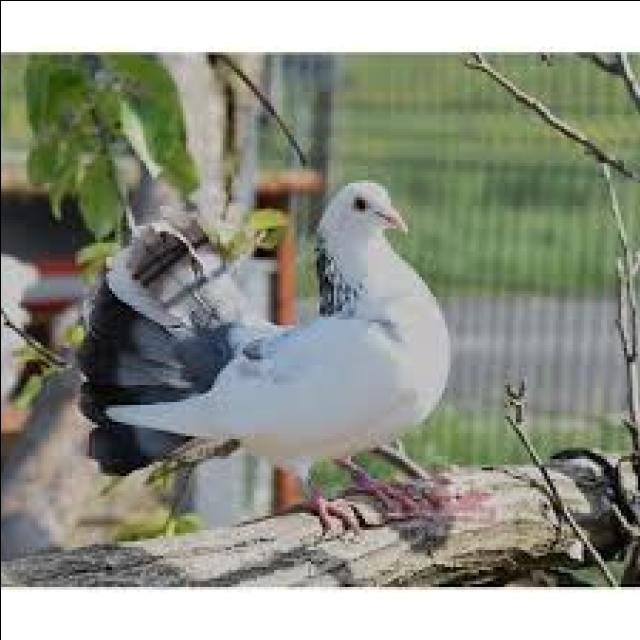pigeon: (52, 166, 480, 534)
